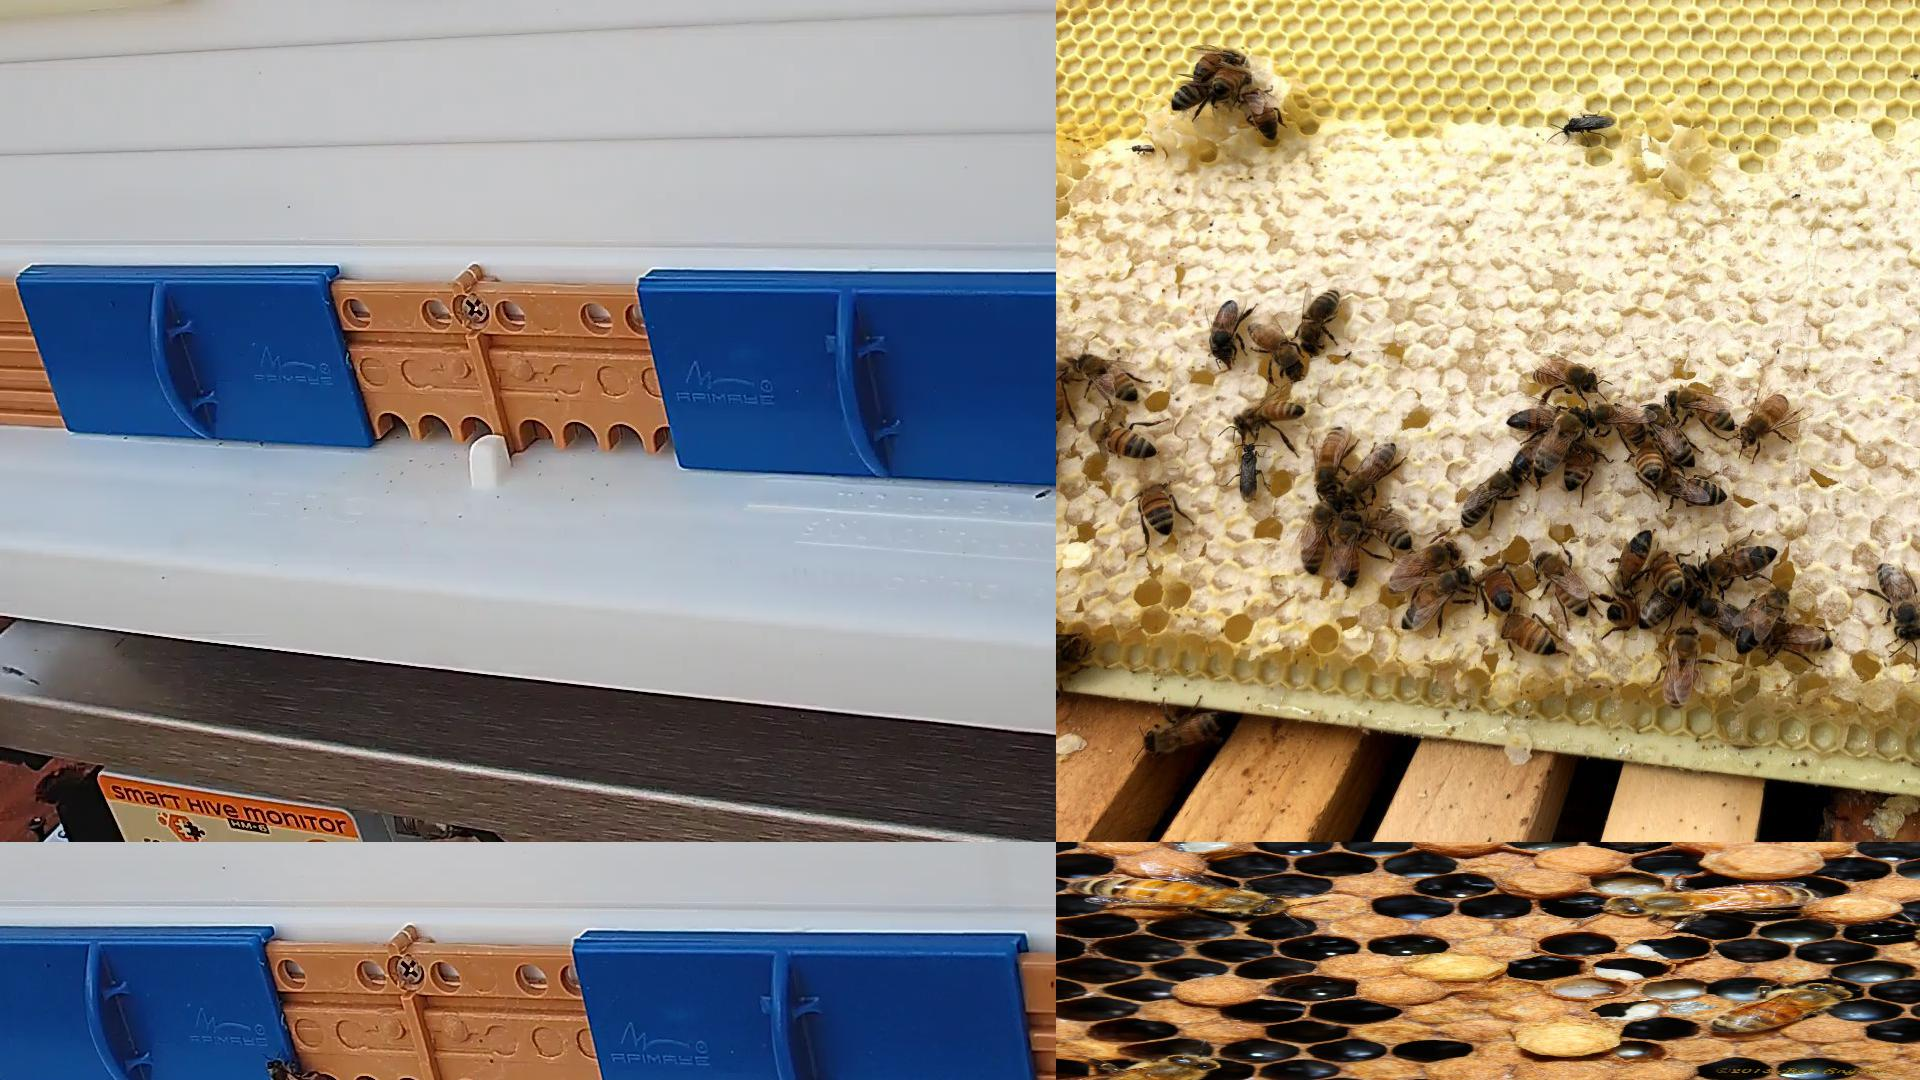bee: (1069, 877, 1282, 914), (1712, 984, 1850, 1031), (1605, 886, 1820, 915), (1402, 572, 1469, 630), (1145, 708, 1225, 754), (1535, 551, 1589, 616), (1535, 407, 1585, 476), (1342, 439, 1398, 501), (1460, 475, 1522, 530), (1640, 566, 1696, 626), (1390, 542, 1460, 589), (1878, 562, 1919, 642), (1738, 589, 1788, 650), (1300, 498, 1341, 571), (1073, 355, 1141, 398), (1689, 589, 1745, 642), (1647, 404, 1693, 465), (1665, 626, 1700, 708), (1098, 1056, 1222, 1079), (1089, 419, 1159, 459), (1669, 390, 1737, 430), (1250, 324, 1303, 375), (1302, 290, 1341, 352), (1617, 526, 1654, 592), (1311, 429, 1348, 493), (1741, 396, 1787, 444), (1588, 407, 1644, 447), (1701, 546, 1776, 575), (1505, 615, 1556, 655), (1209, 299, 1238, 368), (1233, 404, 1304, 431), (1664, 476, 1727, 506), (1337, 512, 1362, 587), (1245, 84, 1279, 137), (1141, 484, 1176, 534), (1171, 79, 1226, 111), (1506, 410, 1593, 430), (1192, 51, 1247, 82), (1366, 513, 1414, 547), (1534, 367, 1598, 392), (1513, 436, 1551, 476), (1564, 444, 1596, 491), (1764, 630, 1832, 651), (1652, 547, 1680, 597), (1484, 566, 1516, 607), (265, 1056, 315, 1079), (1634, 443, 1663, 480), (1213, 67, 1251, 95), (1056, 632, 1080, 673), (1606, 597, 1638, 625), (1056, 360, 1067, 422)
